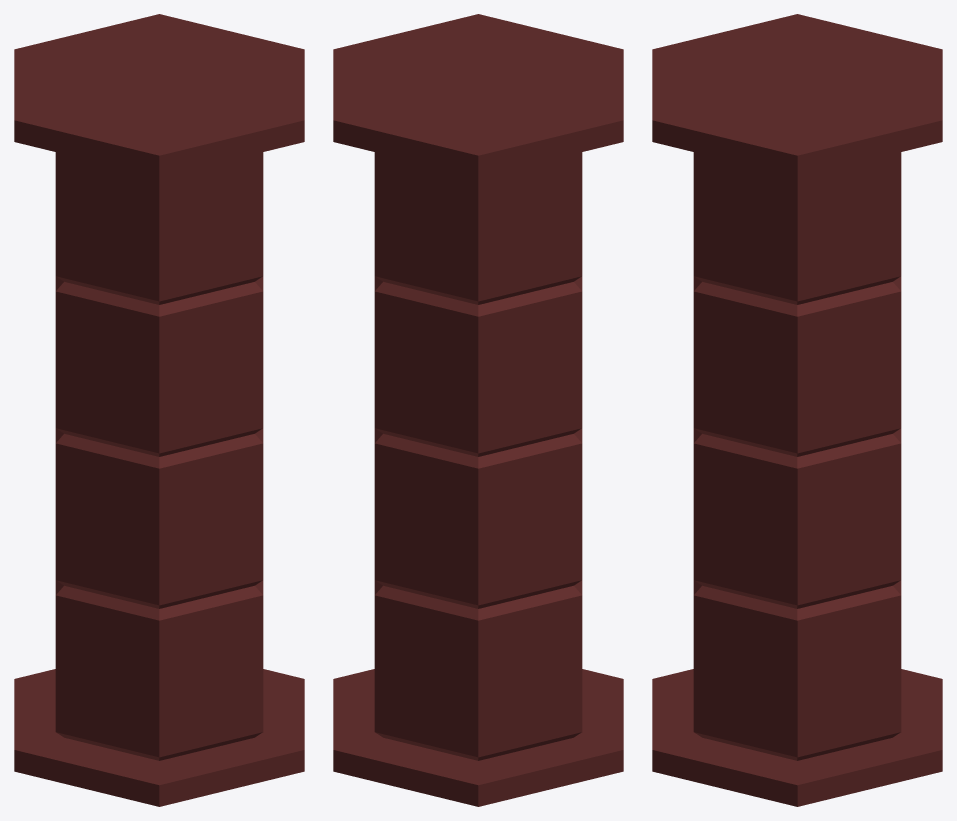
File: column-desert-01.fbx
3 views of the same model, side by side, from view 1: azimuth 30°, elevation 25°; view 2: azimuth 150°, elevation 25°; view 3: azimuth 270°, elevation 25° (orthographic).
Visible parts, largest first — view 1: pCylinder49, pCylinder45, pCylinder44, pCylinder46, pCylinder47, pCylinder48; view 2: pCylinder49, pCylinder45, pCylinder44, pCylinder46, pCylinder47, pCylinder48; view 3: pCylinder49, pCylinder45, pCylinder44, pCylinder46, pCylinder47, pCylinder48.
Part boxes in pixels (bbox=[...]): pCylinder49: bbox=[14, 14, 304, 177]; pCylinder45: bbox=[55, 428, 263, 608]; pCylinder44: bbox=[55, 580, 263, 760]; pCylinder46: bbox=[55, 276, 263, 456]; pCylinder47: bbox=[55, 152, 263, 304]; pCylinder48: bbox=[14, 669, 304, 806]; pCylinder49: bbox=[333, 14, 623, 177]; pCylinder45: bbox=[374, 428, 582, 608]; pCylinder44: bbox=[374, 580, 582, 760]; pCylinder46: bbox=[374, 276, 582, 456]; pCylinder47: bbox=[374, 152, 582, 304]; pCylinder48: bbox=[333, 669, 623, 806]; pCylinder49: bbox=[652, 14, 942, 177]; pCylinder45: bbox=[693, 428, 901, 608]; pCylinder44: bbox=[693, 580, 901, 760]; pCylinder46: bbox=[693, 276, 901, 456]; pCylinder47: bbox=[693, 152, 901, 304]; pCylinder48: bbox=[652, 669, 942, 806].
Size of the model in its own units: 2.8 by 6 by 2.42.
